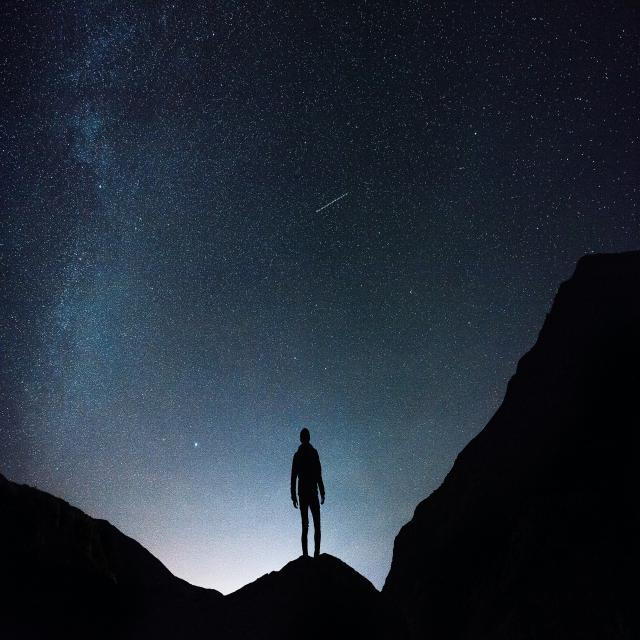standing: (288, 426, 328, 559)
